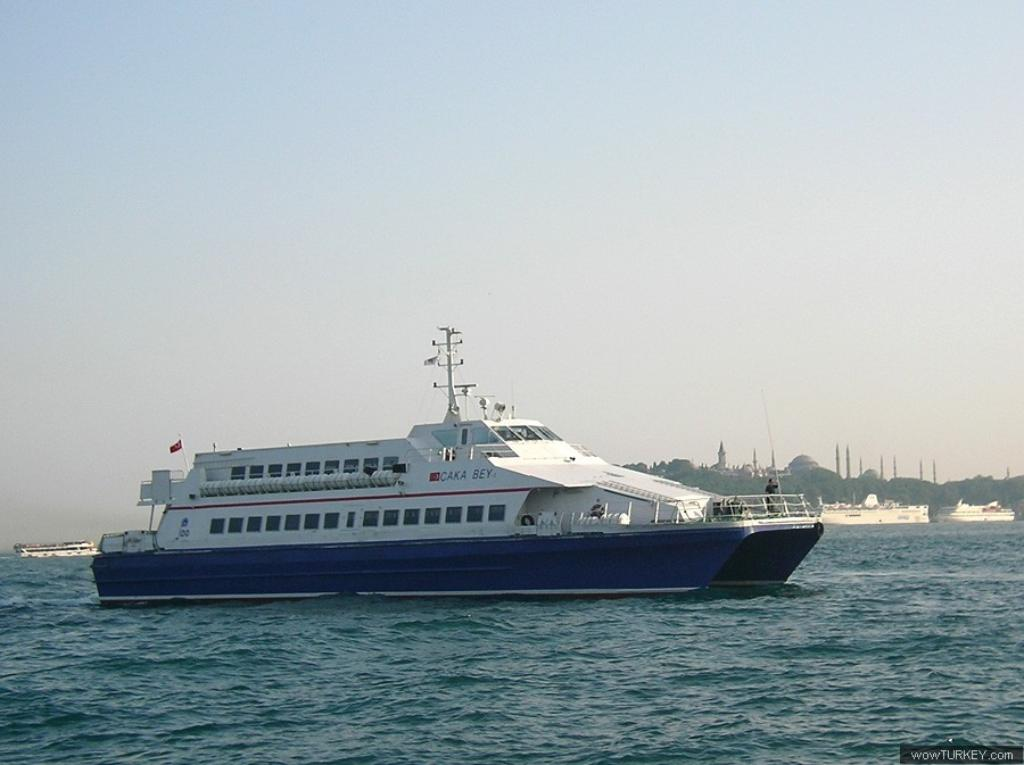PassengerShip: (82, 318, 832, 604), (812, 488, 934, 534), (14, 533, 100, 567), (932, 499, 1020, 529)
